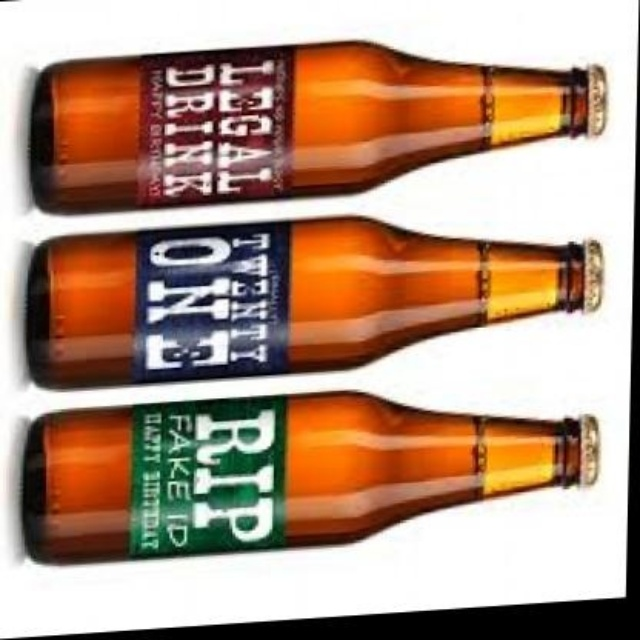trash: (31, 42, 605, 211), (28, 217, 602, 386), (23, 392, 598, 560)
